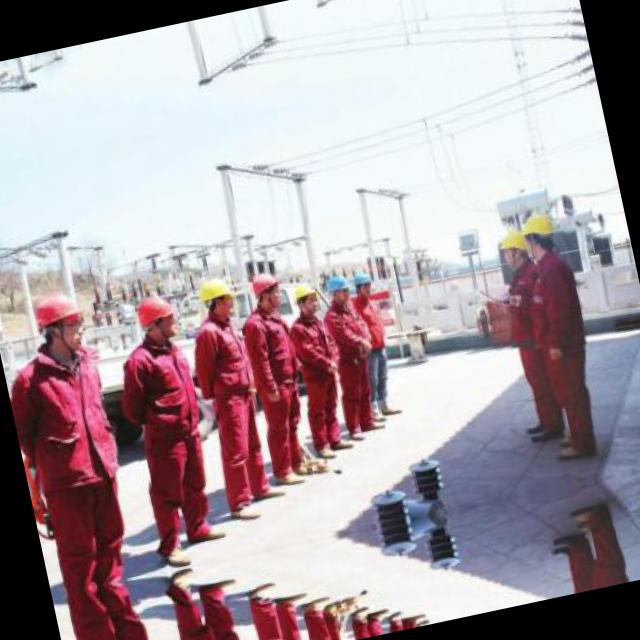helmet: (26, 282, 92, 359), (130, 288, 182, 346), (193, 270, 239, 326), (490, 222, 532, 276), (518, 207, 560, 256), (246, 266, 287, 315), (321, 266, 352, 304), (292, 278, 323, 314), (348, 268, 374, 304)
